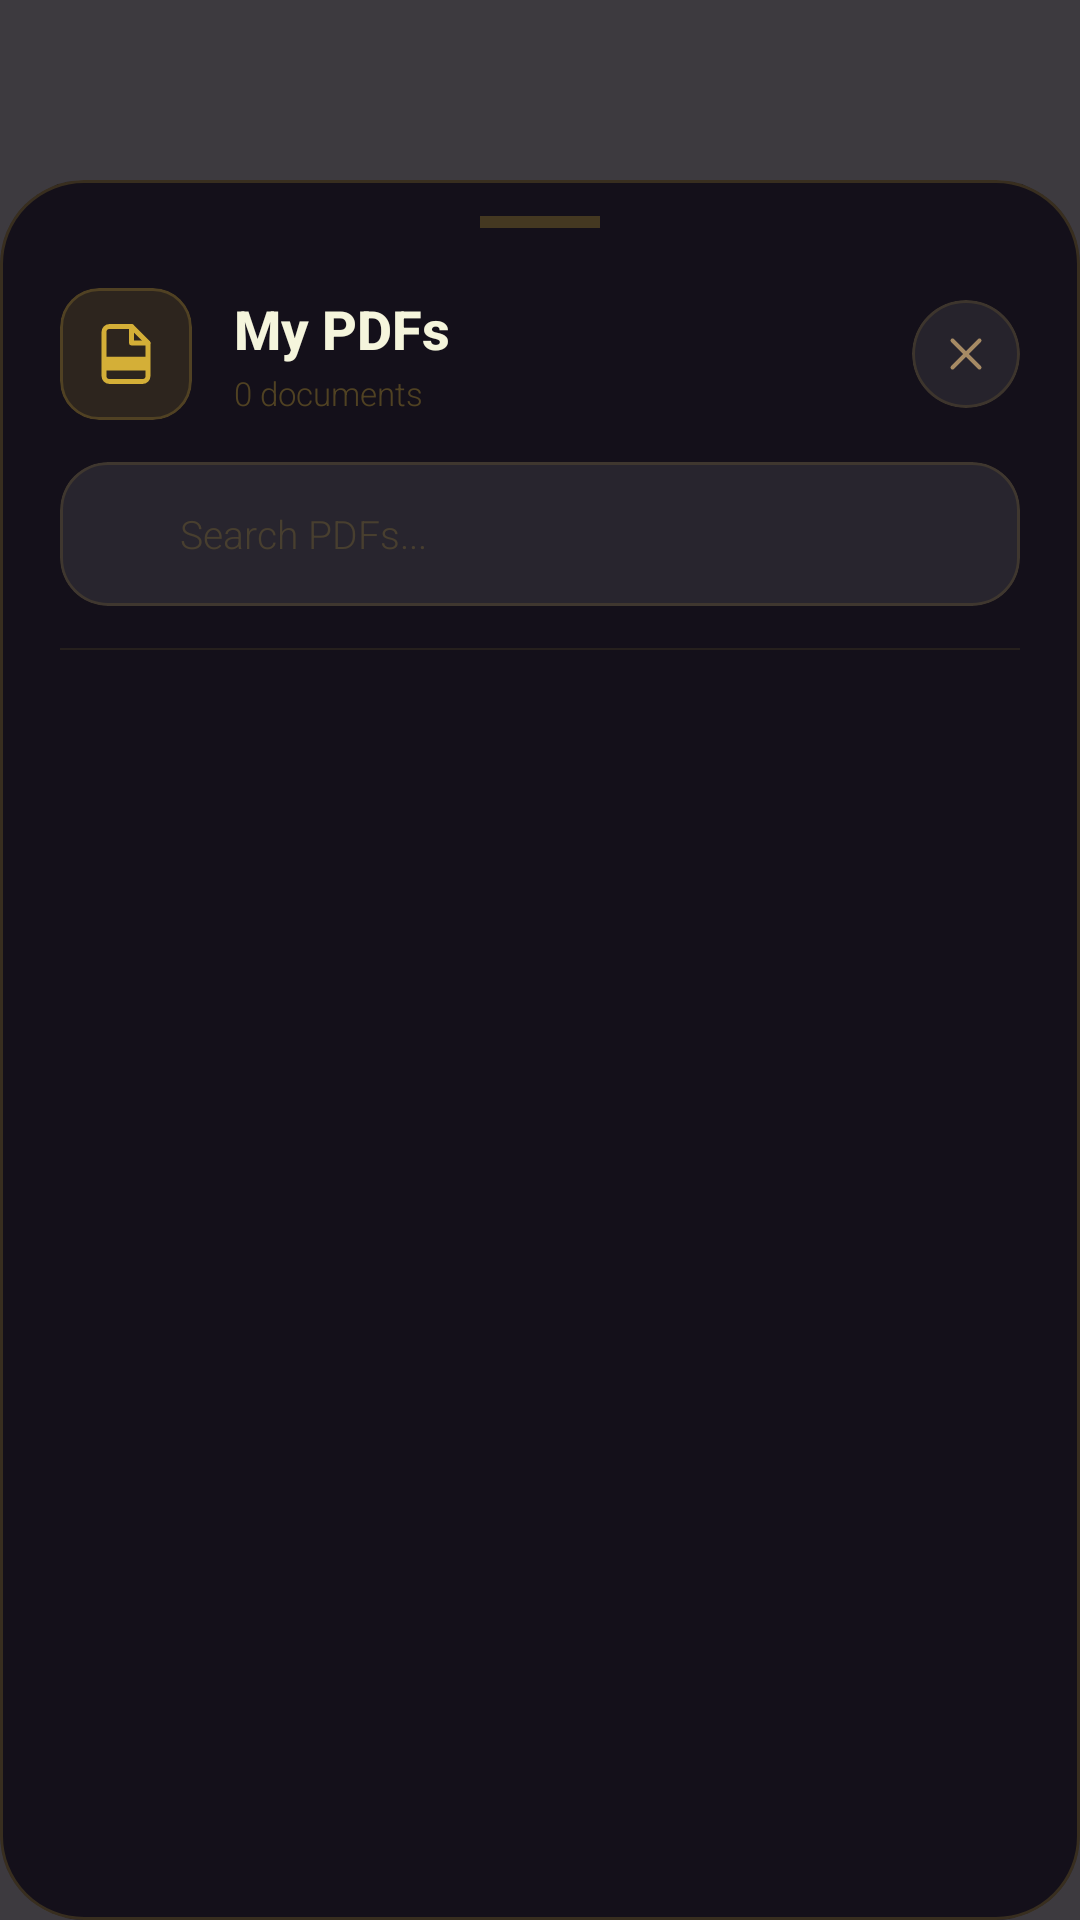

Icons on this 1080 x 1920 Android screen, each with its box as (x1,y1,x2,y2):
close: (950,338,982,370)
